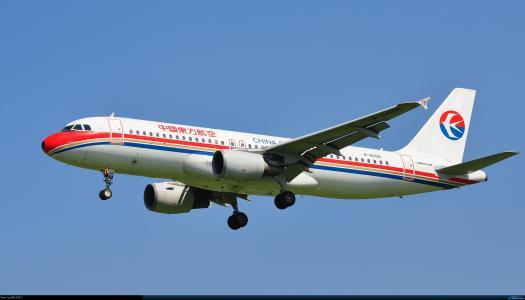airplane: (39, 84, 519, 230)
